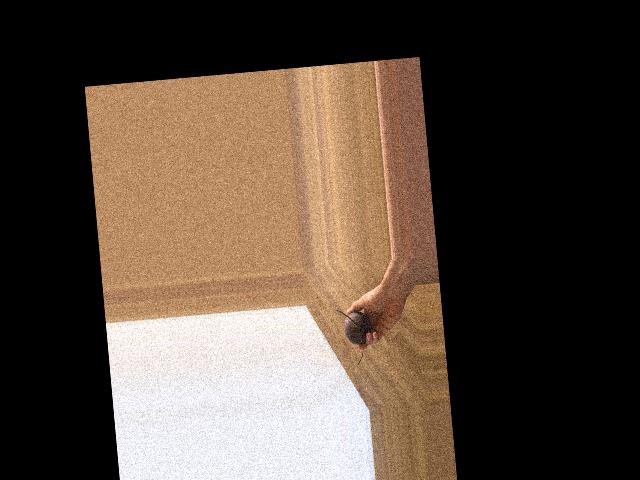beet: (337, 307, 374, 366)
